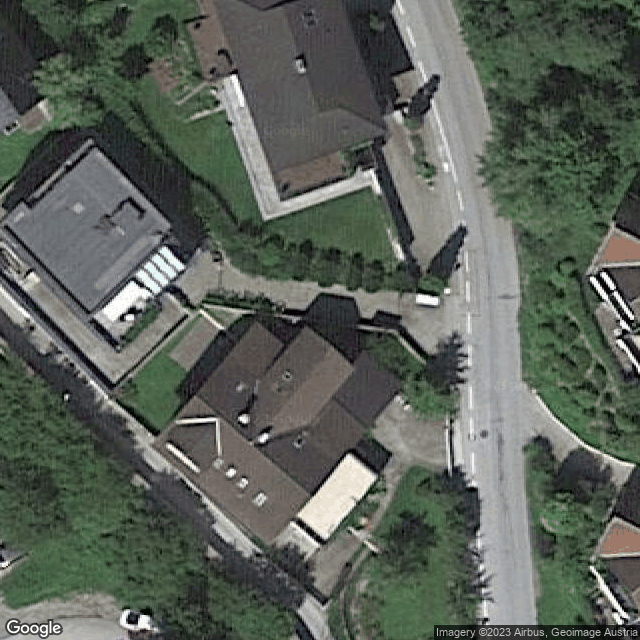dormer: (248, 327, 355, 442), (163, 421, 217, 477)
obstacles: (252, 491, 268, 510), (295, 58, 310, 77), (234, 412, 252, 427), (256, 430, 272, 446), (233, 478, 250, 493), (70, 202, 86, 214), (225, 468, 238, 480)
ridge: (196, 394, 312, 496), (282, 8, 319, 116)
roof: (151, 323, 368, 548), (213, 1, 387, 174), (0, 147, 172, 322), (590, 226, 640, 366), (595, 516, 640, 610)
valley: (273, 116, 319, 174), (340, 107, 386, 132), (239, 1, 265, 12), (624, 583, 638, 602), (595, 553, 639, 556), (627, 296, 639, 306), (595, 264, 640, 266)
